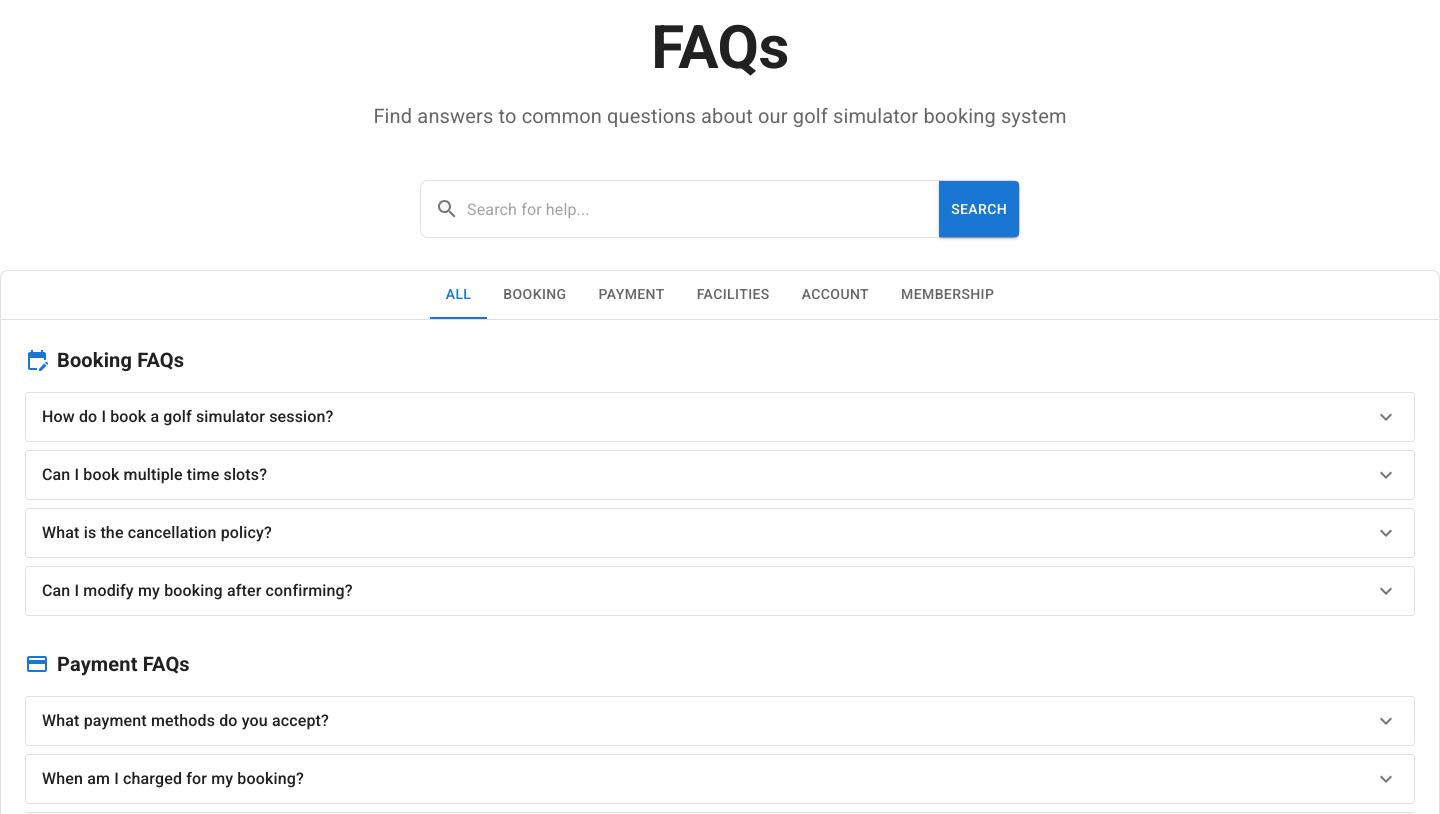
Scenario: HelpCenter › shows no results message when search has no matches
Type "xyznonexistent123" into the field with placeholder "Search for help..." at (699, 209), box x1=467 y1=181 x2=931 y2=237
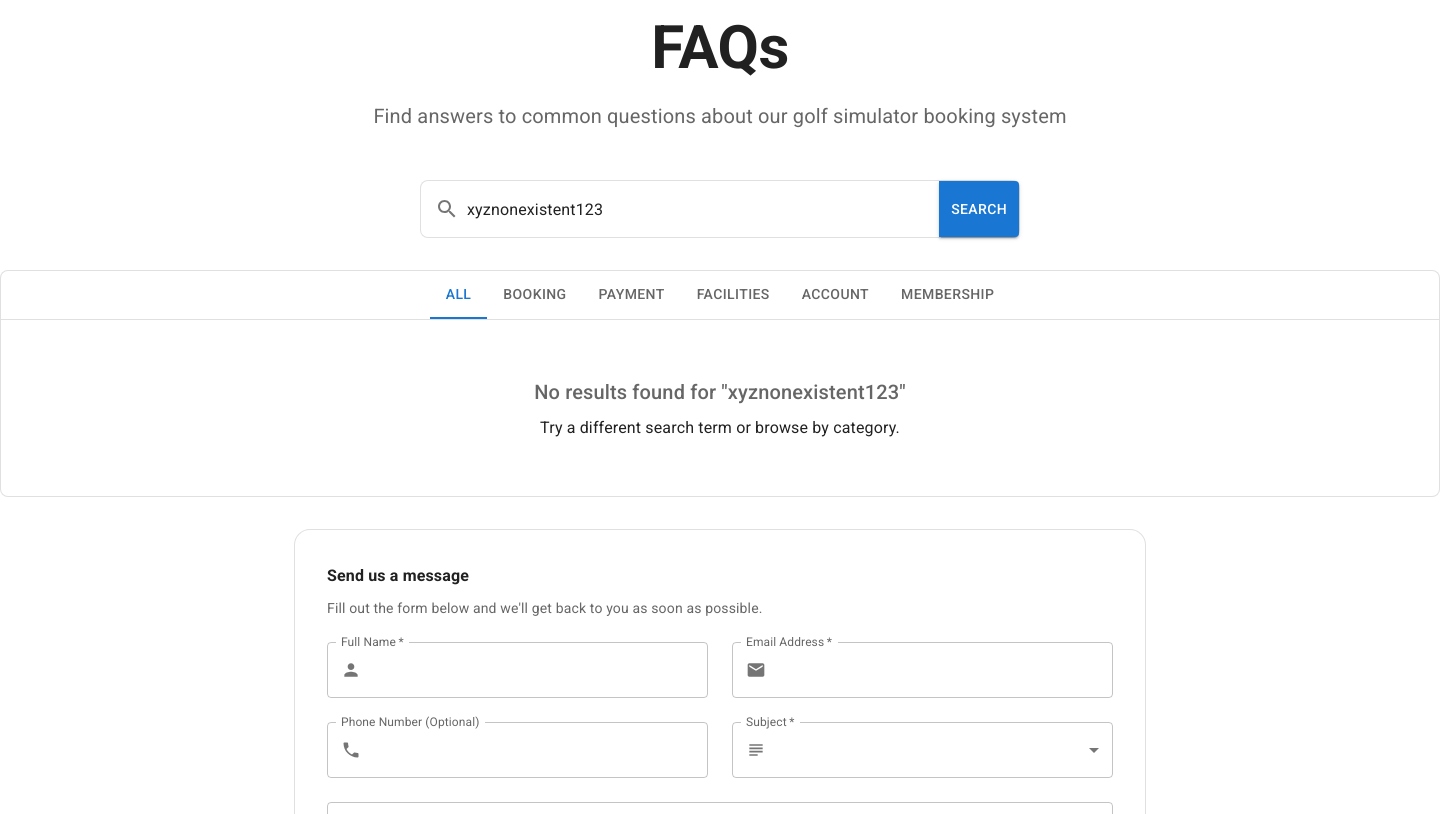
Expected: the heading "No results found for \"xyznonexistent123\"" is shown, x1=534 y1=380 x2=906 y2=404
